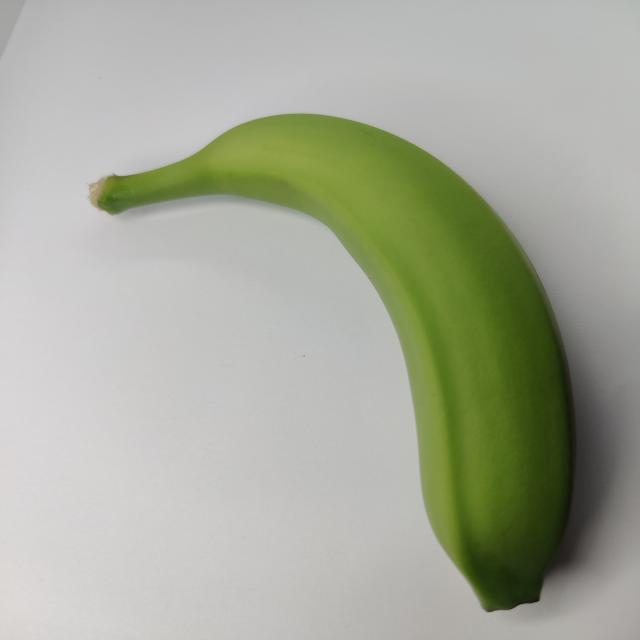raw: (79, 95, 602, 624)
